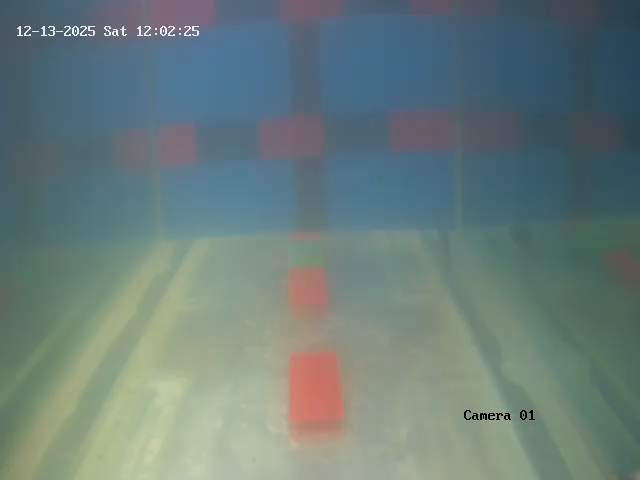fish: (426, 219, 461, 269)
